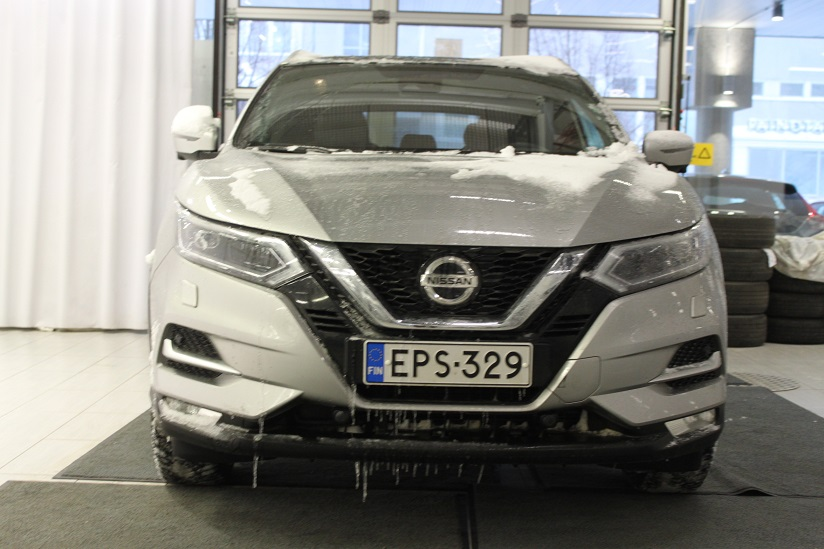license: (362, 342, 530, 390)
